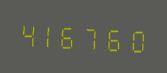four: (17, 16, 38, 50)
one: (39, 17, 60, 51)
seven: (84, 20, 105, 54)
six: (62, 18, 83, 52), (106, 21, 127, 55)
zero: (128, 22, 149, 56)
